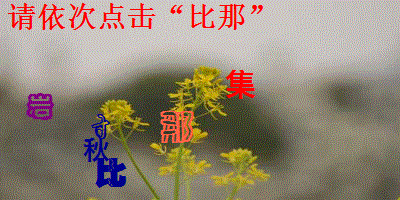result: (187, 2, 247, 31)
text: (158, 109, 194, 147), (94, 155, 129, 190), (224, 68, 256, 100), (24, 90, 57, 121), (82, 137, 110, 163), (89, 114, 113, 140)
